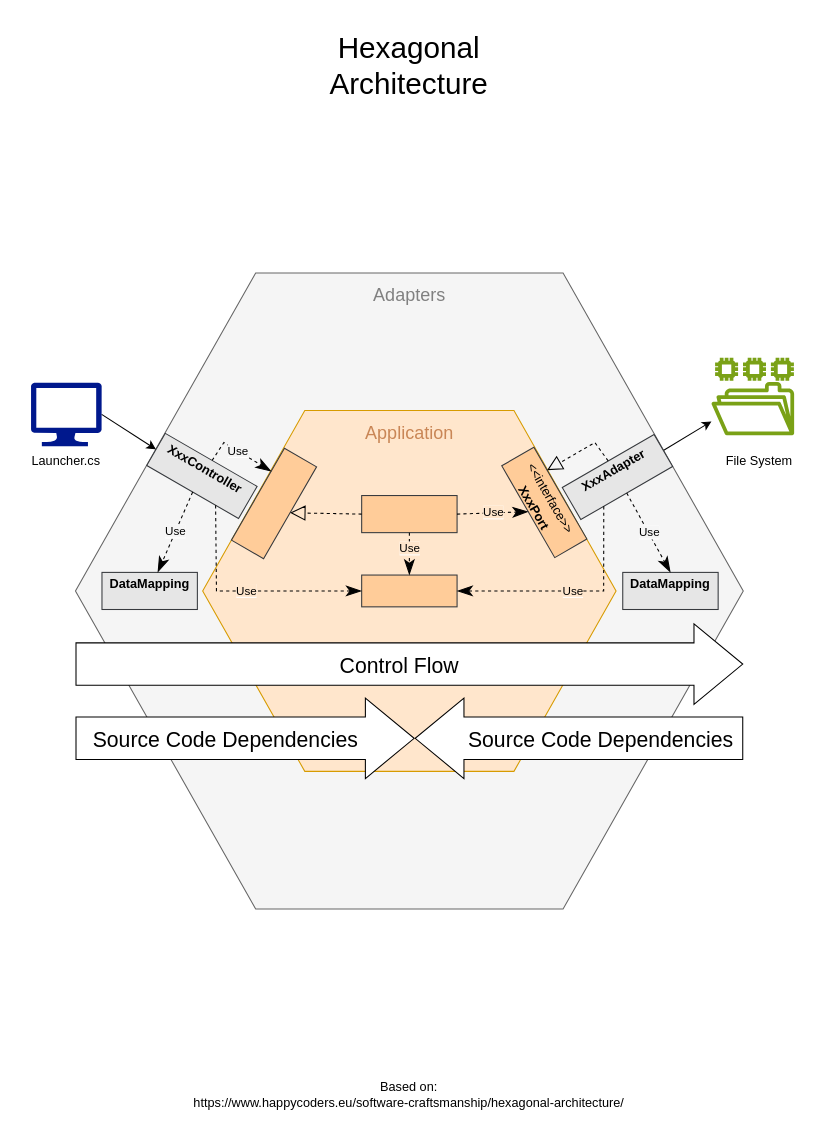
Image size: 825x1128. Some labels were removed from this diagram. The shapes that lost their labels are listed below. From the top down, each one's centre as x and y in pixels, then its label:
At [273,503]: "<<interface>> XxxUseCase".
At [409,513]: "XxxService".
At [409,590]: "DataModel".
